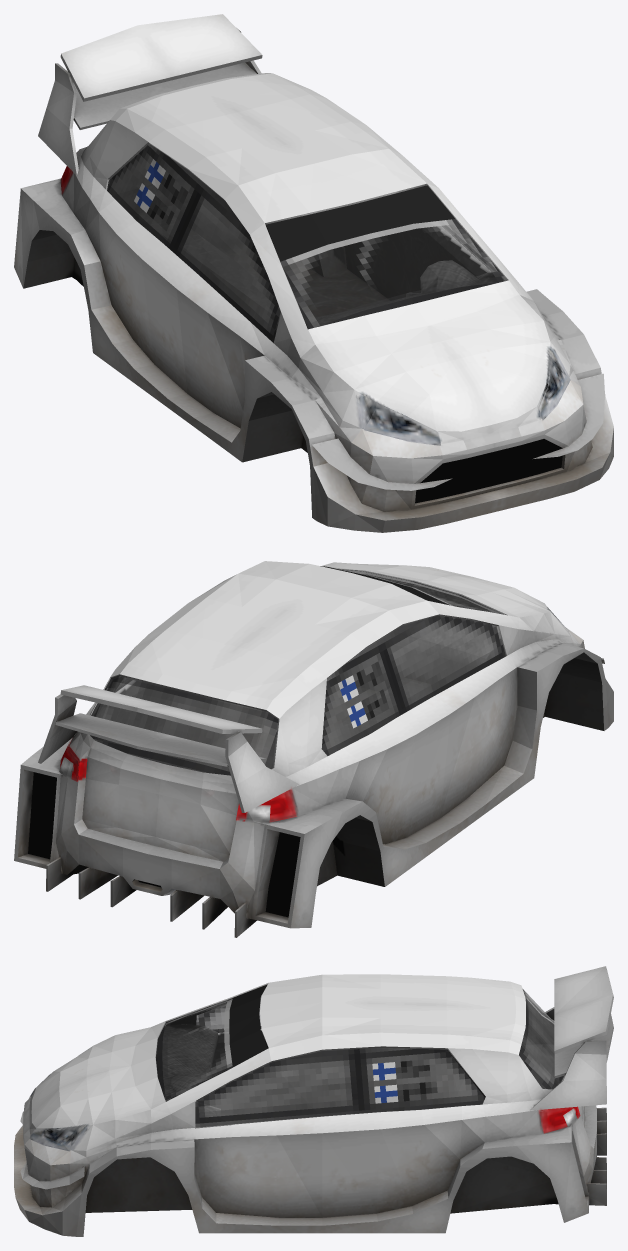
Rendered from shakedown.gltf.
3 views of the same model, one above another, from view 1: azimuth 30°, elevation 25°; view 2: azimuth 150°, elevation 25°; view 3: azimuth 270°, elevation 25° (orthographic). The views are drawn at different scales.
Parts seen in each view (by area): view 1: spec17_body; view 2: spec17_body; view 3: spec17_body.
Boxes of the visible parts, box(x1,y1,x2,y2) form: spec17_body: box(14, 14, 613, 532); spec17_body: box(14, 561, 613, 937); spec17_body: box(14, 966, 613, 1236).
Bounding box in the file's own units: 1.91 × 1.4 × 4.12.
3 materials, 3 textured.
